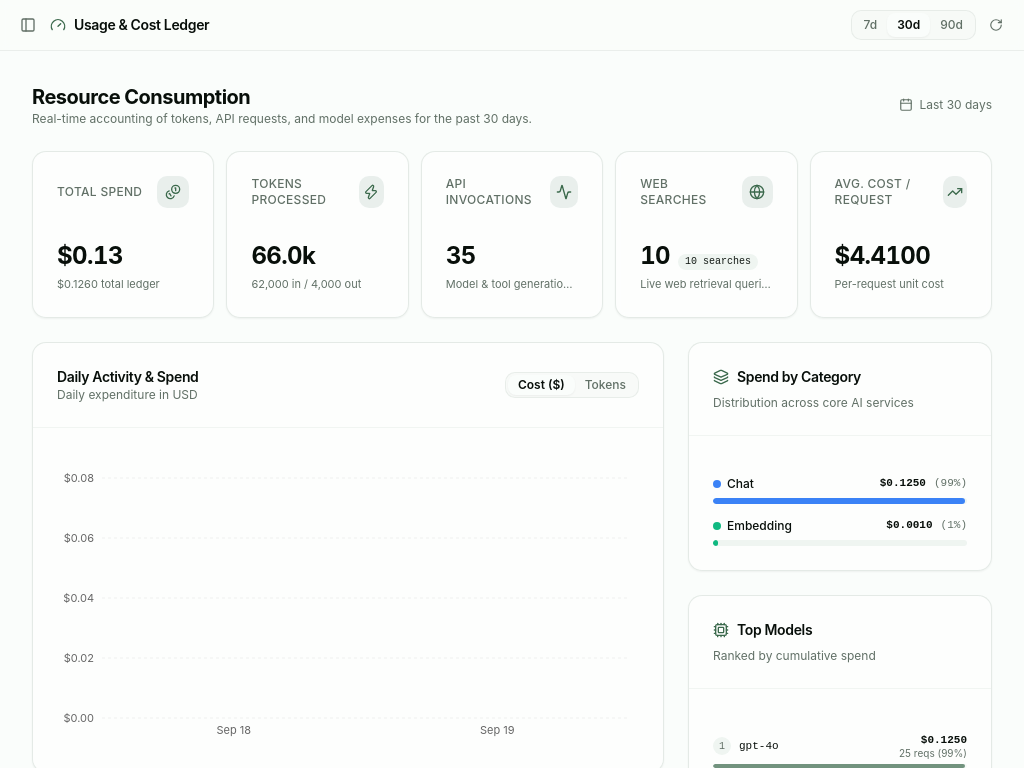
Test: UsagePage › toggles between Cost and Tokens metric in trend chart
The image size is (1024, 768).
Expected: the text "Daily Activity & Spend" is shown, [57,366,198,386]
What coordinates should you click on to do the following:
click the button "Tokens"
I would click on:
 (605, 384)
Its box is [575,374,636,394].
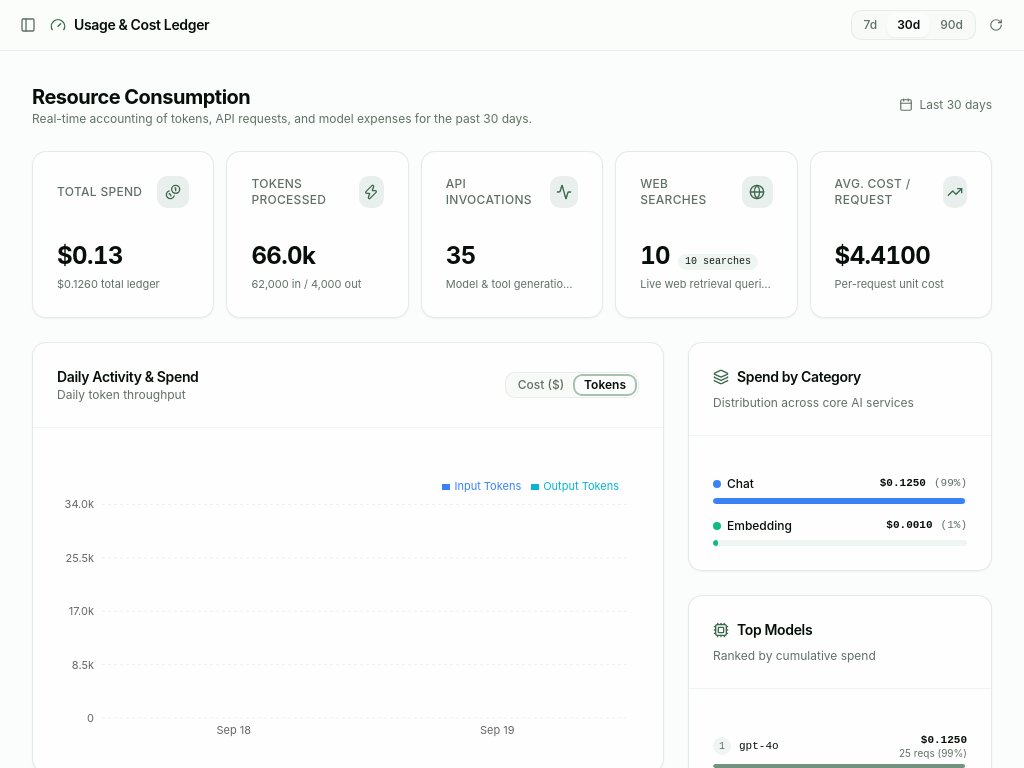
Result: the text "Daily token throughput" is shown at [57,386,198,402]
What coordinates should you click on to do the following:
click the button "Cost ($)"
I would click on:
 (541, 384)
Its box is [508,374,574,394].
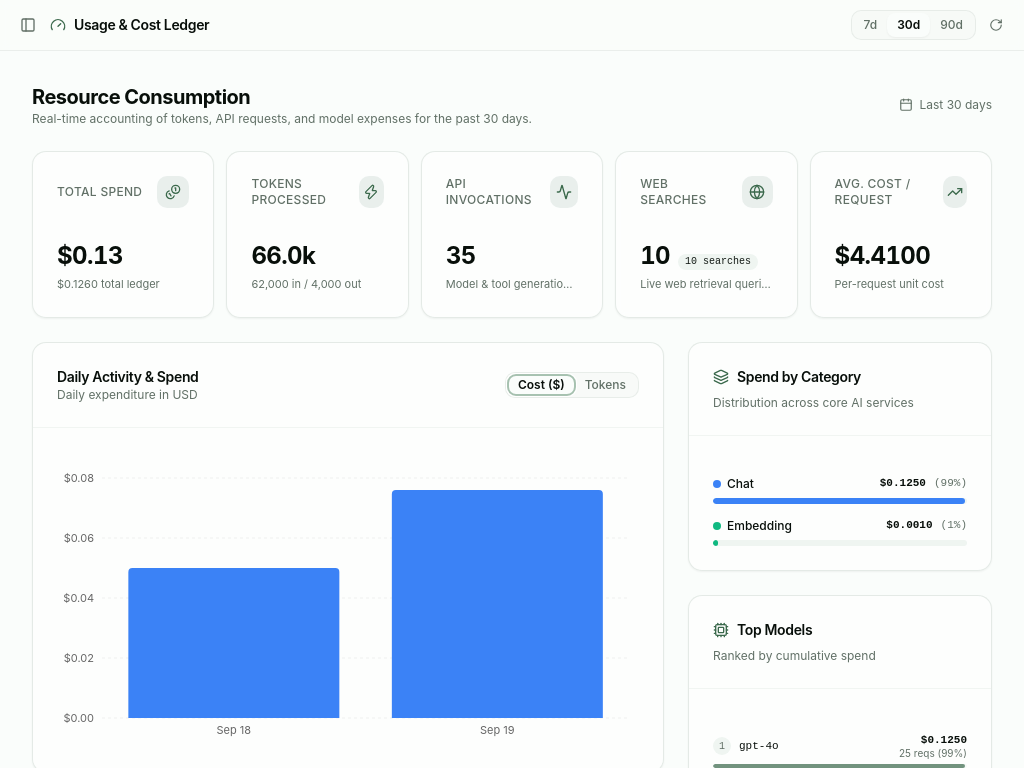
Result: the text "Daily expenditure in USD" is shown at [57,386,198,402]
